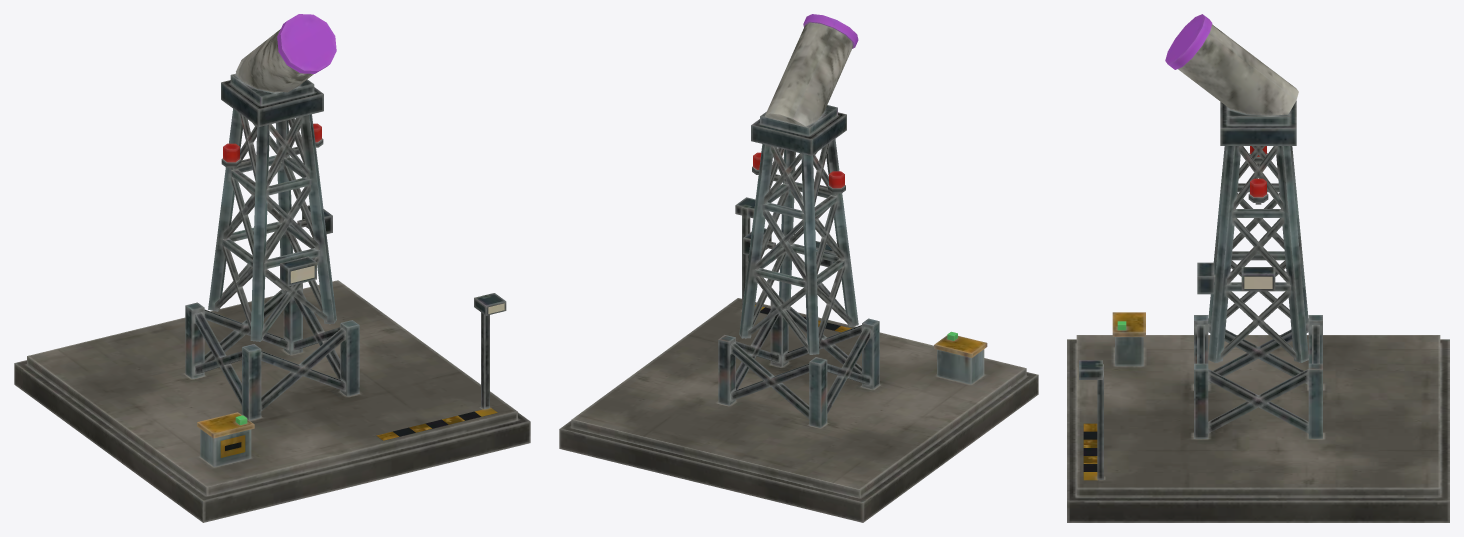
The model's file is space_telescope_module.glb.
3 renders of one model, left to right at view 1: azimuth 30°, elevation 25°; view 2: azimuth 150°, elevation 25°; view 3: azimuth 270°, elevation 25°, orthographic. The views are drawn at different scales.
Visible parts, largest first — view 1: te_space_telescope_module, move_scope; view 2: te_space_telescope_module, move_scope; view 3: te_space_telescope_module, move_scope.
Boxes of the visible parts, x1,y1,x2,y2 form: te_space_telescope_module: (14,80,530,522); move_scope: (230,14,336,105); te_space_telescope_module: (559,112,1038,522); move_scope: (760,14,858,136); te_space_telescope_module: (1067,101,1449,522); move_scope: (1165,14,1298,125).
Size of the model in its own units: 0.8 by 0.9784 by 0.8.
1 material, 1 textured.
